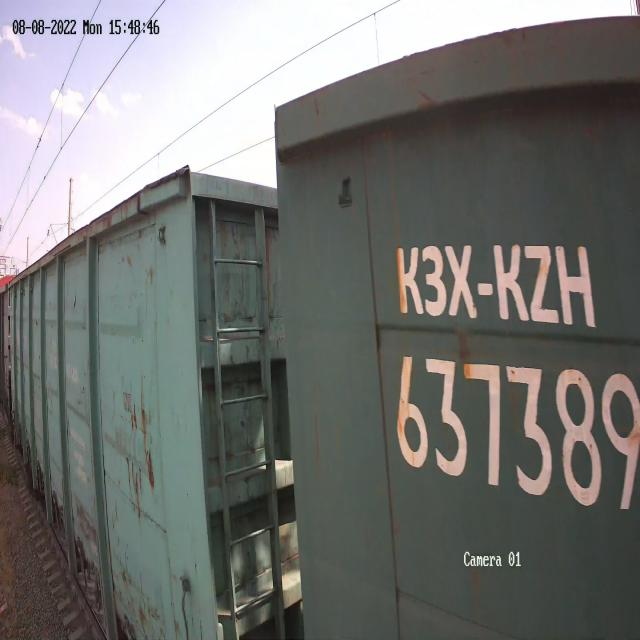gondola: (261, 8, 639, 640), (6, 155, 294, 640)
